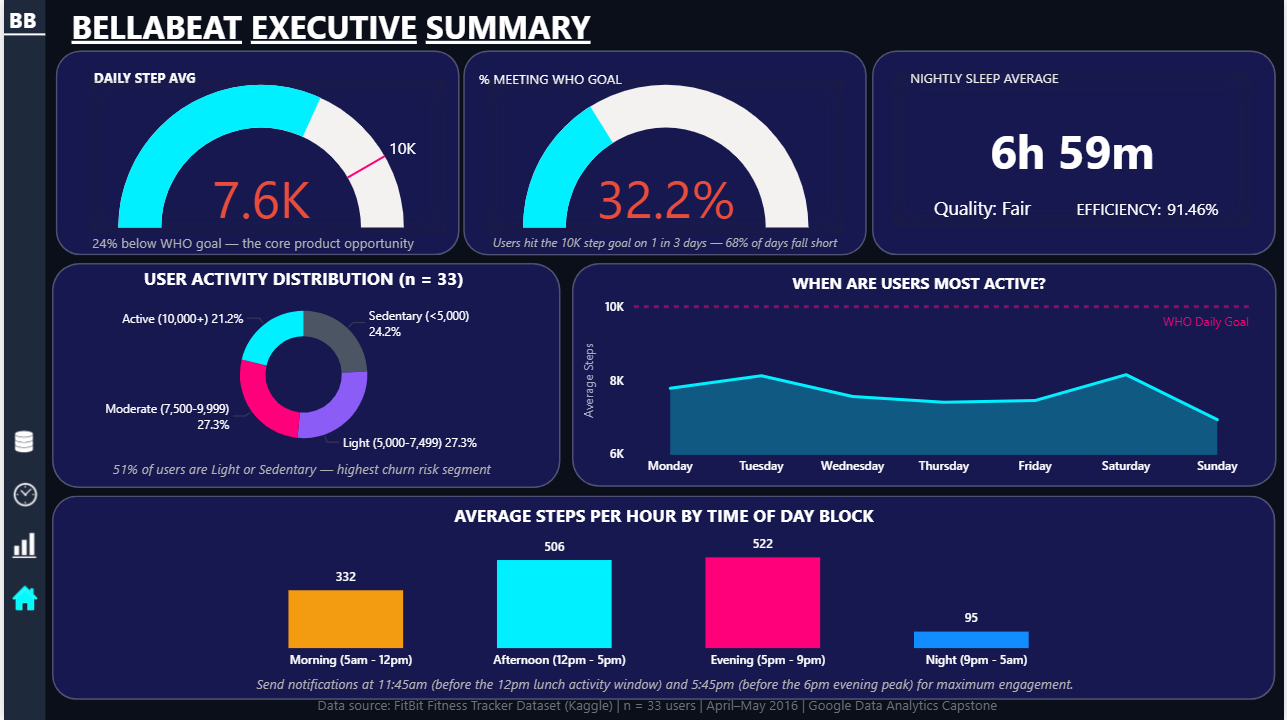

This screenshot's page, from the dashboard's own definition file:
{"tool":"powerbi","page":{"name":"Executive Summary","canvas":[1280,720],"ordinal":0},"visuals":[{"type":"textbox","box":[0,0,42.5,47.5],"z":0,"group":"g8"},{"type":"shape","box":[0,0,41.4,720],"z":0,"group":"g4"},{"type":"group","id":"g1","title":"Group 6","box":[47,0,1225,720],"z":0},{"type":"textbox","title":"Heading","box":[62,0,595,54],"z":0,"group":"g1"},{"type":"group","id":"g2","title":"KPI Cards","box":[50.2,50.4,1221.1,206],"z":0,"group":"g9"},{"type":"shape","box":[50.2,50.4,404.9,206],"z":0,"group":"g2"},{"type":"textbox","box":[901.3,64.3,166,36],"z":0,"group":"g6"},{"type":"card","title":"Avg Daily Steps","fields":{"Values":["_Total_measures.Sleep Duration Display"]},"box":[888.3,74.7,356.4,152.7],"z":0,"group":"g10"},{"type":"card","fields":{"Values":["_Total_measures.Sleep Efficiency"]},"box":[1141.1,194.7,93,34.6],"z":0,"group":"g12"},{"type":"group","id":"g3","title":"Donut Chart","box":[47,262.8,509.5,226.2],"z":0,"group":"g11"},{"type":"shape","box":[47,262.8,509.5,226.2],"z":0,"group":"g3"},{"type":"shape","box":[566.4,263,705.6,224.8],"z":0,"group":"g7"},{"type":"shape","box":[47.1,495,1224.4,205.4],"z":0,"group":"g5"},{"type":"group","id":"g4","title":"Group 7","box":[0,0,41.4,720],"z":1000},{"type":"shape","box":[0,16.2,41.2,36.2],"z":1000,"group":"g8"},{"type":"group","id":"g5","title":"Group 5","box":[47,50.4,1225,669.6],"z":1000,"group":"g1"},{"type":"shape","box":[866.4,50.4,404.9,206],"z":1000,"group":"g2"},{"type":"group","id":"g6","title":"Titles","box":[84.6,64.3,982.7,36.5],"z":1000,"group":"g9"},{"type":"gauge","title":"Avg Daily Steps","fields":{"Y":["_Total_measures.Pct Meeting WHO Goal"]},"box":[482.2,80.5,356.4,152.7],"z":1000,"group":"g10"},{"type":"textbox","box":[1066.4,193,101.6,37.5],"z":1000,"group":"g12"},{"type":"group","id":"g7","title":"Group 1","box":[566.4,263,705.6,224.8],"z":1000,"group":"g11"},{"type":"donutChart","title":"USER ACTIVITY DISTRIBUTION (n = 33)","fields":{"Category":["Users.Segment"],"Y":["Count(Users.Id)"]},"box":[52.7,266,492.1,194.4],"z":1000,"group":"g3"},{"type":"areaChart","title":"WHEN ARE USERS MOST ACTIVE?","fields":{"Category":["MasterCalendar.DayName"],"Y":["_Total_measures.Average Daily Steps"]},"box":[574.4,271.5,680,212.9],"z":1000,"group":"g7"},{"type":"actionButton","box":[0,574,41,49],"z":1000,"group":"g4"},{"type":"group","id":"g8","title":"Group 2","box":[0,0,42.5,52.5],"z":2000},{"type":"group","id":"g9","title":"KPI's","box":[50.2,50.4,1221.1,206],"z":2000,"group":"g5"},{"type":"shape","box":[458.3,50.4,404.5,206],"z":2000,"group":"g2"},{"type":"textbox","box":[84.6,64.8,114.5,36],"z":2000,"group":"g6"},{"type":"group","id":"g10","title":"KPI Values","box":[84.9,74.7,1159.8,158.7],"z":2000,"group":"g9"},{"type":"gauge","title":"Avg Daily Steps","fields":{"Y":["_Total_measures.Average Daily Steps"]},"box":[84.9,80.7,356.4,152.7],"z":2000,"group":"g10"},{"type":"actionButton","box":[0,521.7,41.4,48.6],"z":2000,"group":"g4"},{"type":"textbox","box":[469.7,66,153.1,33.1],"z":2500,"group":"g6"},{"type":"card","fields":{"Values":["_Total_measures.Sleep Quality Label"]},"box":[901.1,194.7,154.8,33],"z":2500,"group":"g5"},{"type":"actionButton","box":[0,469.4,41.4,48.6],"z":3000,"group":"g4"},{"type":"clusteredColumnChart","title":"AVERAGE STEPS PER HOUR BY TIME OF DAY BLOCK","fields":{"Category":["Hourly.TimeOfDay"],"Y":["_Total_measures.Average Hourly Steps"]},"box":[196.2,504.3,927.4,174.3],"z":3000,"group":"g5"},{"type":"textbox","box":[483.3,227.7,363,35],"z":4000,"group":"g5"},{"type":"actionButton","box":[0,417.1,41.4,48.6],"z":4000,"group":"g4"},{"type":"group","id":"g11","title":"Group 3","box":[47,262.8,1225,226.2],"z":5000,"group":"g5"},{"type":"textbox","box":[73.7,228.7,350.7,28.8],"z":6000,"group":"g5"},{"type":"textbox","box":[102,455,399,33],"z":7000,"group":"g5"},{"type":"textbox","box":[246,692,814.4,28],"z":8000,"group":"g5"},{"type":"textbox","box":[213,671.1,867,33.8],"z":9000,"group":"g5"},{"type":"group","id":"g12","title":"Group 4","box":[1066.4,193,167.8,37.5],"z":10000,"group":"g5"}]}

Visuals, with their boxes on the page's 1280x720 design canvas (x1, y1, x2, y2). These are canvas units, not pixel positions in the 1287x720 screenshot, which may show the page scaled, cropped or inside an application window:
textbox: 0 0 42 48
shape: 0 0 41 720
"Group 6" group: 47 0 1272 720
"Heading" textbox: 62 0 657 54
"KPI Cards" group: 50 50 1271 256
shape: 50 50 455 256
textbox: 901 64 1067 100
"Avg Daily Steps" card: 888 75 1245 227
card - _Total_measures.Sleep Efficiency: 1141 195 1234 229
"Donut Chart" group: 47 263 556 489
shape: 47 263 556 489
shape: 566 263 1272 488
shape: 47 495 1272 700
"Group 7" group: 0 0 41 720
shape: 0 16 41 52
"Group 5" group: 47 50 1272 720
shape: 866 50 1271 256
"Titles" group: 85 64 1067 101
"Avg Daily Steps" gauge: 482 80 839 233
textbox: 1066 193 1168 230
"Group 1" group: 566 263 1272 488
"USER ACTIVITY DISTRIBUTION (n = 33)" donutChart: 53 266 545 460
"WHEN ARE USERS MOST ACTIVE?" areaChart: 574 272 1254 484
actionButton: 0 574 41 623
"Group 2" group: 0 0 42 52
"KPI's" group: 50 50 1271 256
shape: 458 50 863 256
textbox: 85 65 199 101
"KPI Values" group: 85 75 1245 233
"Avg Daily Steps" gauge: 85 81 441 233
actionButton: 0 522 41 570
textbox: 470 66 623 99
card - _Total_measures.Sleep Quality Label: 901 195 1056 228
actionButton: 0 469 41 518
"AVERAGE STEPS PER HOUR BY TIME OF DAY BLOCK" clusteredColumnChart: 196 504 1124 679
textbox: 483 228 846 263
actionButton: 0 417 41 466
"Group 3" group: 47 263 1272 489
textbox: 74 229 424 258
textbox: 102 455 501 488
textbox: 246 692 1060 720
textbox: 213 671 1080 705
"Group 4" group: 1066 193 1234 230
